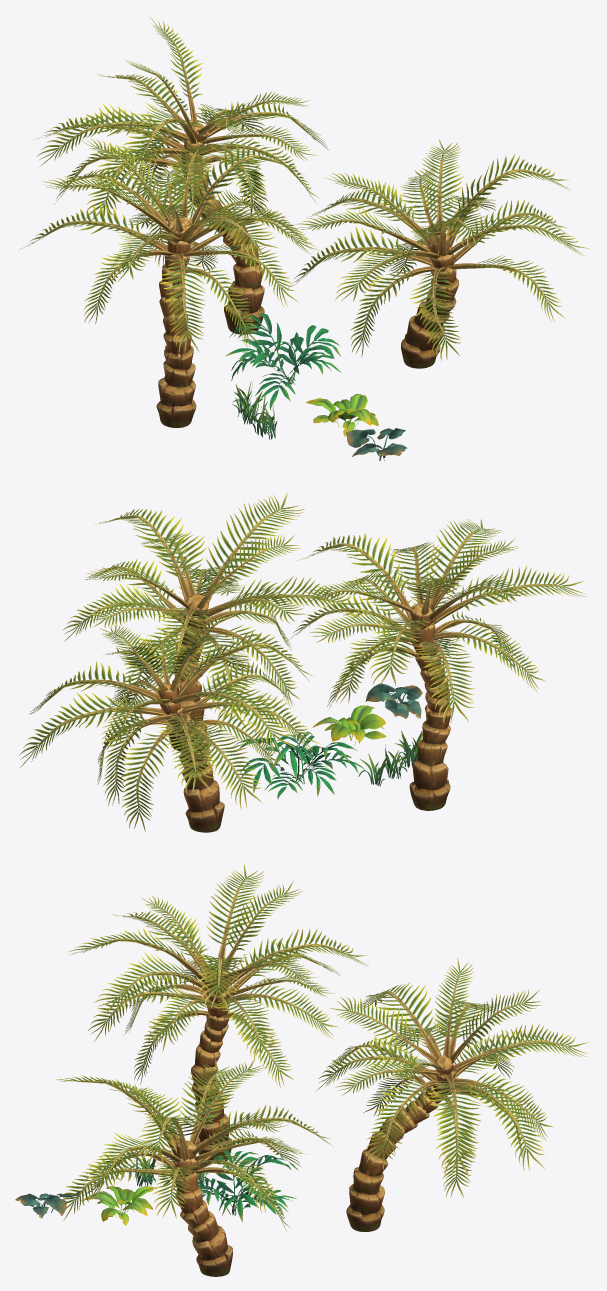
File: DatePalm_Vegetation.fbx
3 renders of one model, top to bottom at view 1: azimuth 30°, elevation 25°; view 2: azimuth 150°, elevation 25°; view 3: azimuth 270°, elevation 25°, orthographic. The views are drawn at different scales.
Parts seen in each view (by area): view 1: SM_DatePalm_1, SM_DatePalm_3, SM_DatePalm_2, SM_Vegetation_2, SM_Vegetation_1, SM_Vegetation_3; view 2: SM_DatePalm_1, SM_DatePalm_2, SM_DatePalm_3, SM_Vegetation_2, SM_Vegetation_1, SM_Vegetation_3; view 3: SM_DatePalm_2, SM_DatePalm_1, SM_DatePalm_3, SM_Vegetation_2, SM_Vegetation_1, SM_Vegetation_3.
Boxes of the visible parts, left/top/right/bottom form: SM_DatePalm_1: left=19, top=137, right=319, bottom=427; SM_DatePalm_3: left=286, top=138, right=590, bottom=368; SM_DatePalm_2: left=35, top=16, right=328, bottom=334; SM_Vegetation_2: left=225, top=314, right=341, bottom=410; SM_Vegetation_1: left=306, top=394, right=378, bottom=436; SM_Vegetation_3: left=346, top=428, right=407, bottom=460; SM_DatePalm_1: left=289, top=519, right=586, bottom=810; SM_DatePalm_2: left=19, top=605, right=320, bottom=832; SM_DatePalm_3: left=62, top=493, right=365, bottom=750; SM_Vegetation_2: left=234, top=731, right=364, bottom=799; SM_Vegetation_1: left=312, top=705, right=386, bottom=745; SM_Vegetation_3: left=365, top=683, right=422, bottom=718; SM_DatePalm_2: left=315, top=957, right=588, bottom=1232; SM_DatePalm_1: left=67, top=864, right=368, bottom=1163; SM_DatePalm_3: left=56, top=1058, right=333, bottom=1276; SM_Vegetation_2: left=198, top=1150, right=298, bottom=1221; SM_Vegetation_1: left=83, top=1186, right=157, bottom=1225; SM_Vegetation_3: left=15, top=1191, right=84, bottom=1218.
Size of the model in its own units: 967 by 503 by 1034.
